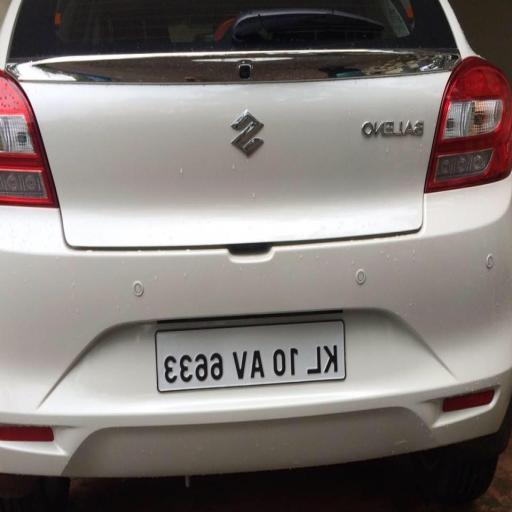License: (155, 318, 344, 394)
